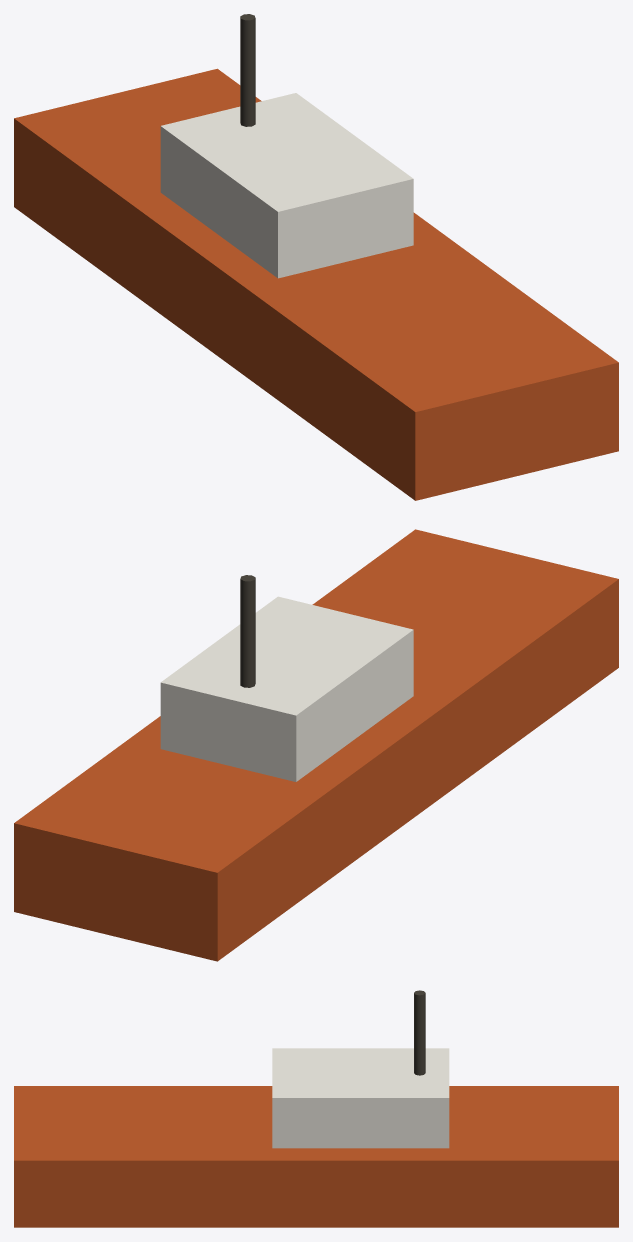
File: ship-boat.glb
3 views of the same model, one above another, from view 1: azimuth 30°, elevation 25°; view 2: azimuth 150°, elevation 25°; view 3: azimuth 270°, elevation 25° (orthographic). The views are drawn at different scales.
Parts seen in each view (by area): view 1: boat; view 2: boat; view 3: boat.
Boxes of the visible parts, x1,y1,x2,y2 form: boat: (14, 14, 618, 500); boat: (14, 529, 618, 961); boat: (14, 990, 618, 1227).
Size of the model in its own units: 2.4 by 2.95 by 8.2.
